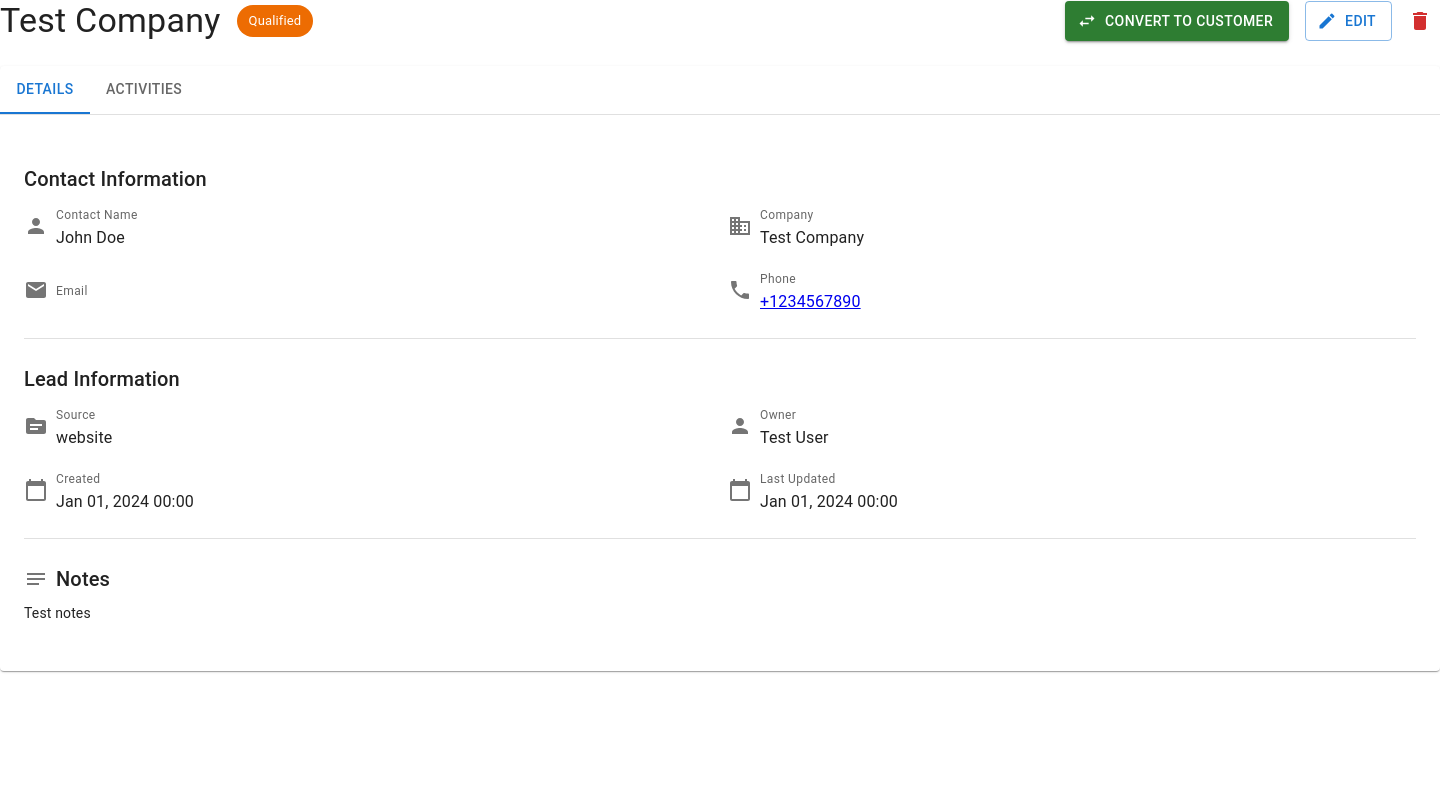
it: LeadDetail conversion › shows the server's reason in the dialog when a conversion is refused
Click the button "Convert to Customer" at (1177, 21), box x1=1065 y1=1 x2=1289 y2=41
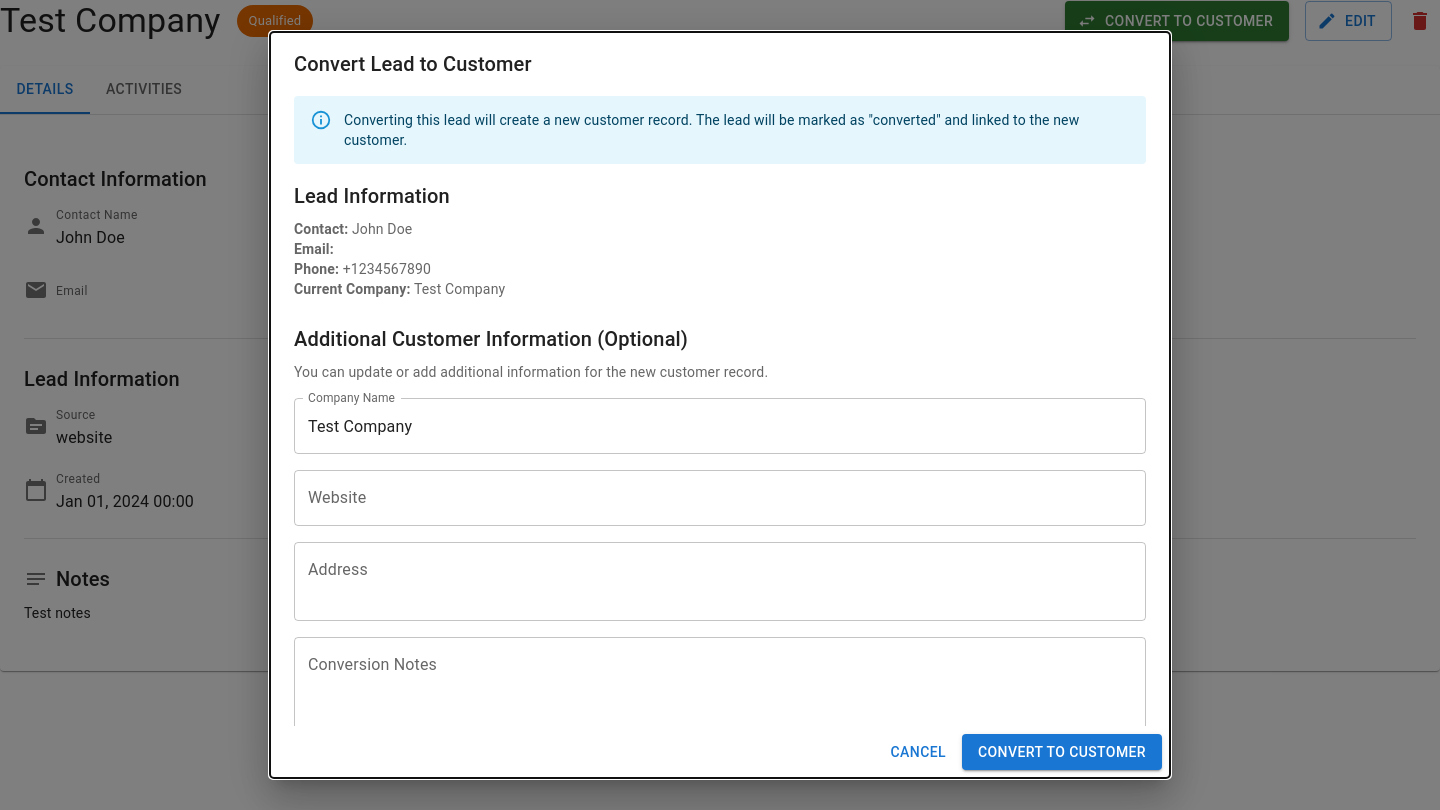
Click the button "Convert to Customer" at (1062, 752), box x1=962 y1=734 x2=1162 y2=770
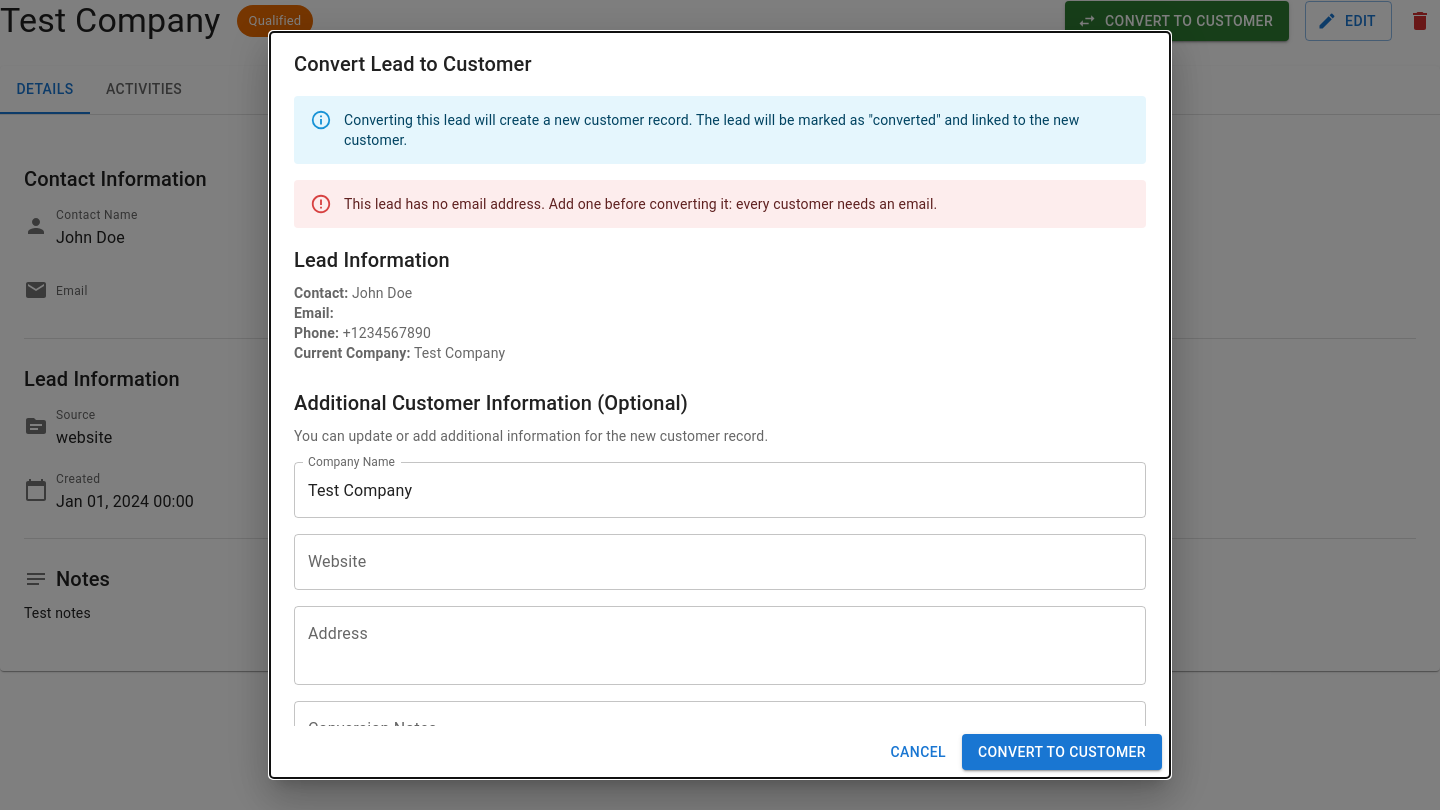
expect the dialog is shown: met, box x1=270 y1=32 x2=1170 y2=778
expect the message with test id "convert-lead-error" shows "This lead has no email address. Add one before converting it: every customer needs an email.": met, box x1=344 y1=196 x2=937 y2=212
